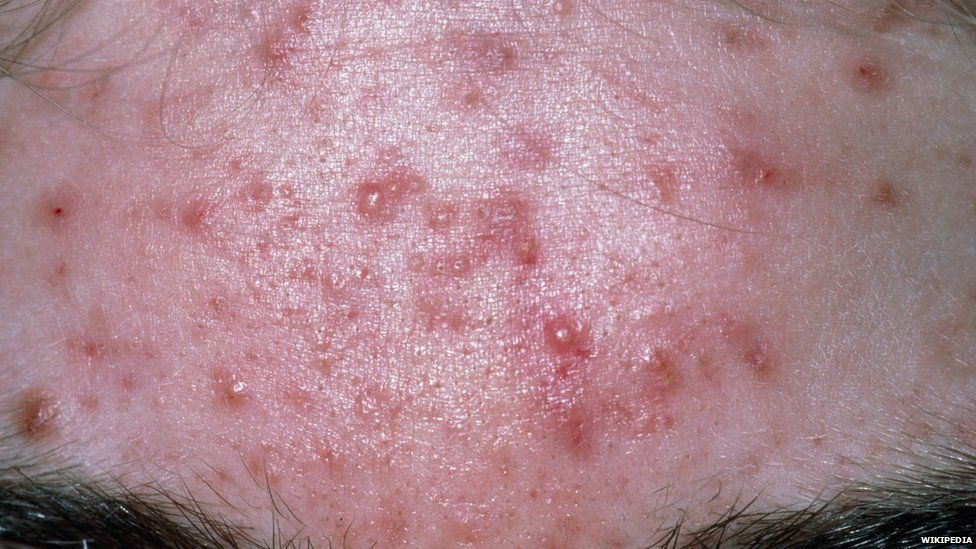Acne: (523, 291, 593, 371), (0, 367, 71, 444), (739, 144, 779, 201), (347, 173, 391, 223), (214, 356, 254, 410)
